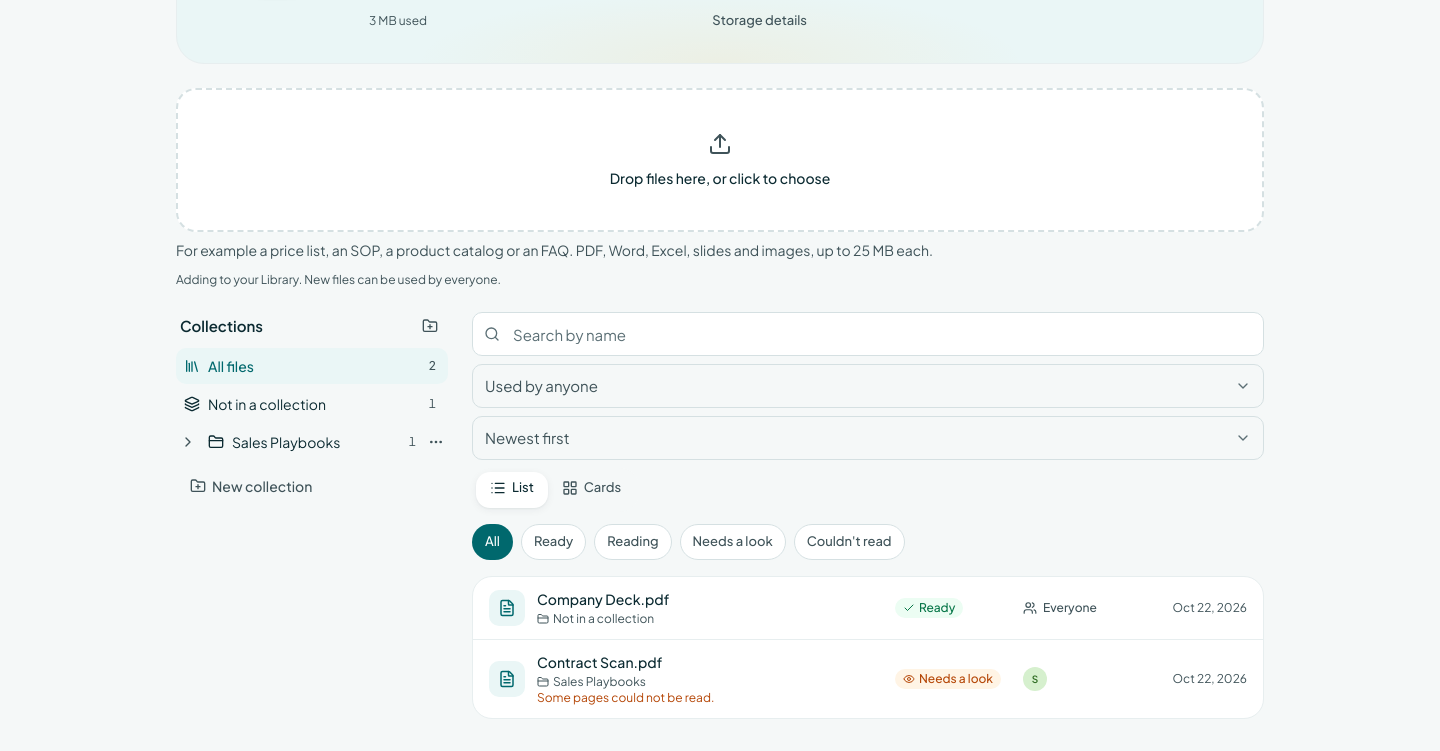
it: the file drawer › shows what Sino read
(page scrolled)
Step 1. Click the button with aria-label "Open Company Deck.pdf" → (507, 608), box [473,577,1263,639]
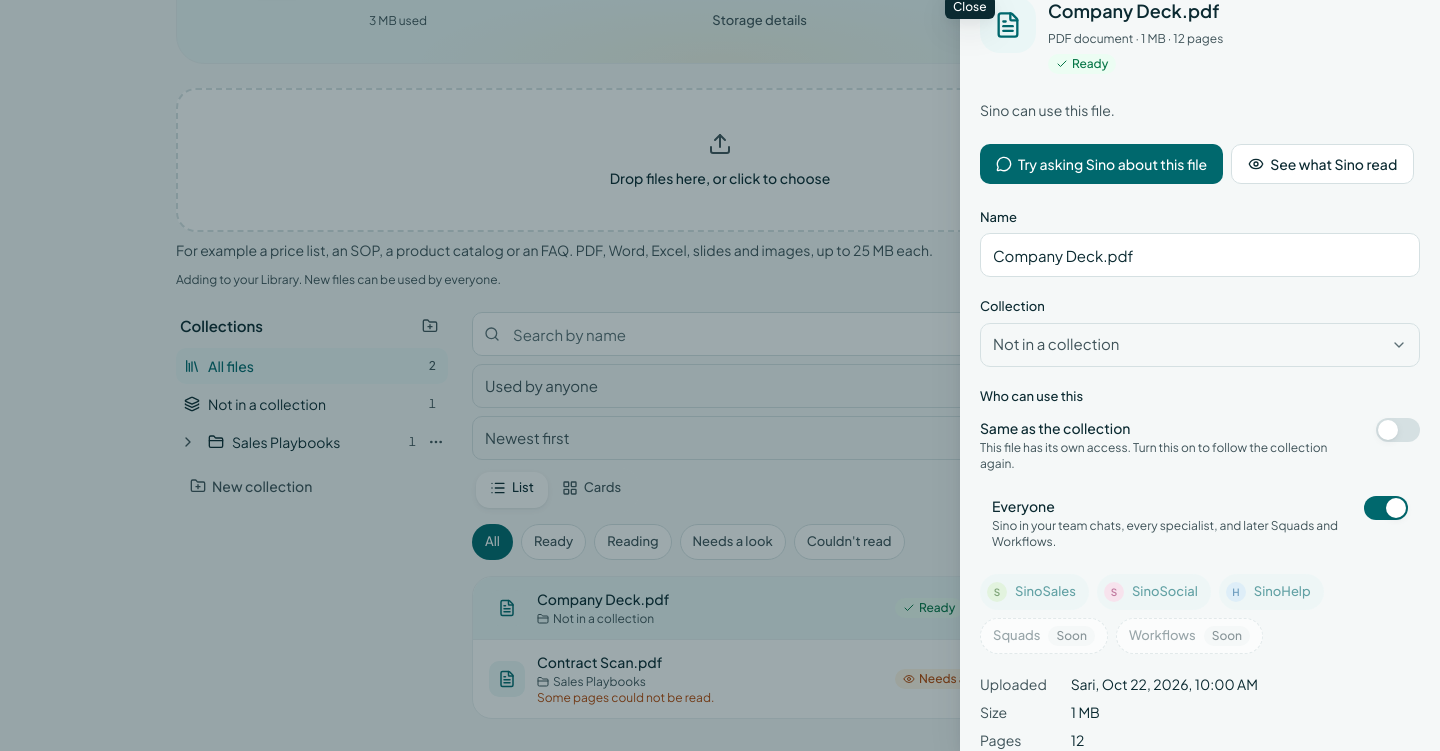
Step 2. Click the button "See what Sino read" → (1323, 164), box [1231,144,1414,184]
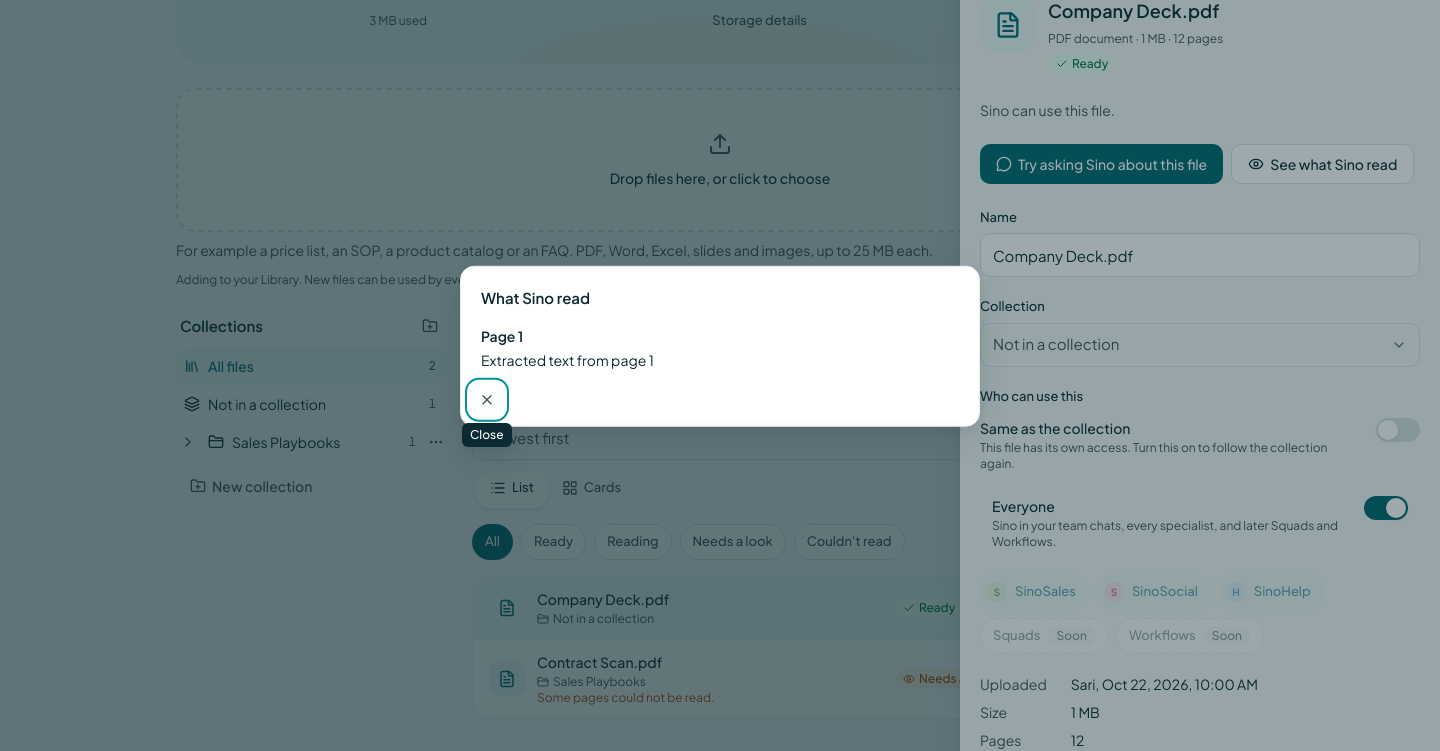
Check: the text "Extracted text from page 1" is shown, box [481,350,654,368]
